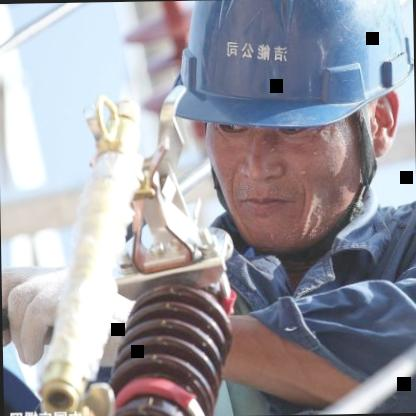helmet: (152, 1, 416, 257)
